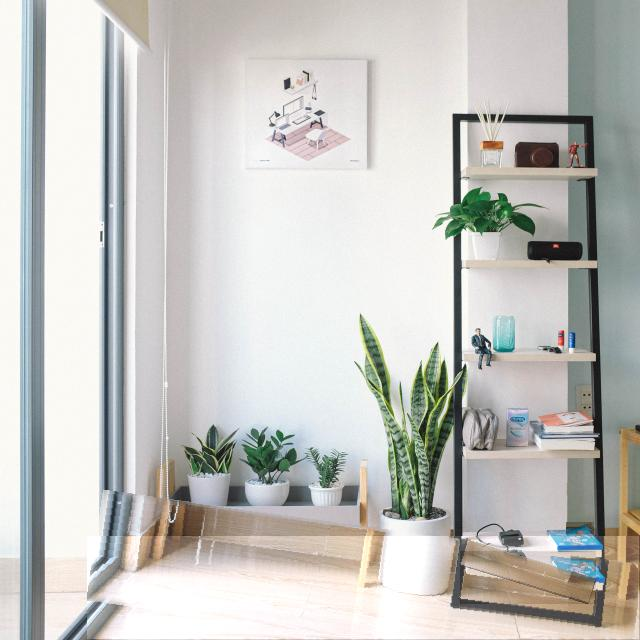floor: (87, 537, 639, 639), (461, 551, 596, 604), (566, 523, 594, 534)
